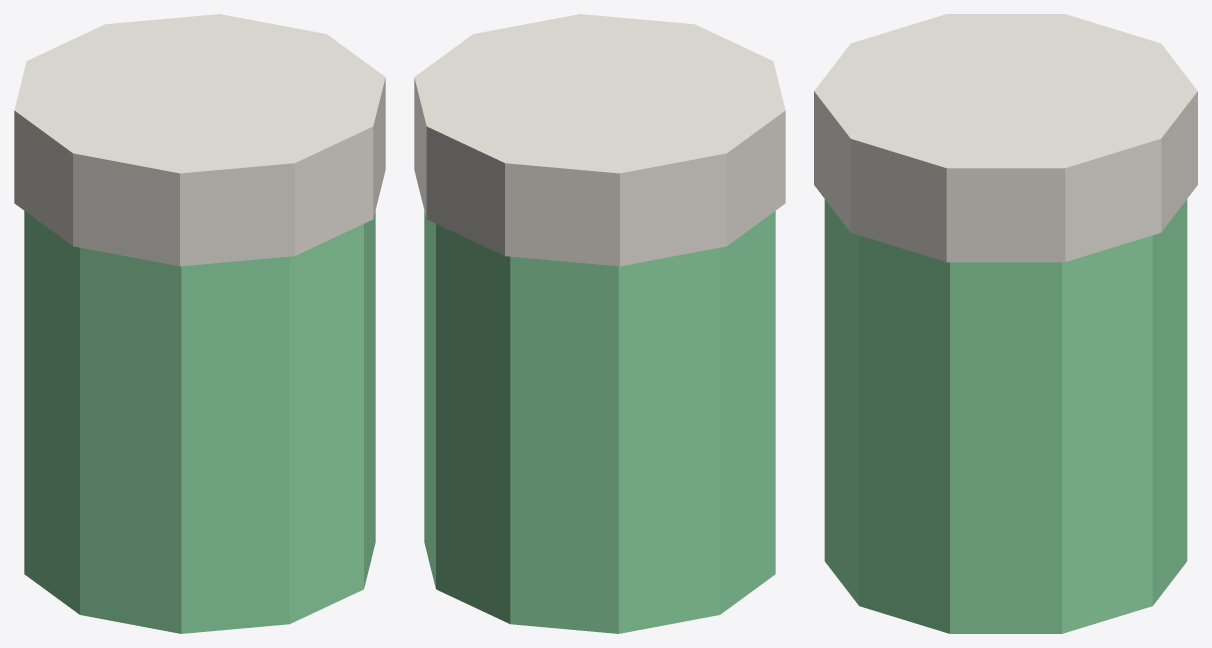
The model's file is sample_jar.glb.
3 views of the same model, side by side, from view 1: azimuth 30°, elevation 25°; view 2: azimuth 150°, elevation 25°; view 3: azimuth 270°, elevation 25° (orthographic).
Parts seen in each view (by area): view 1: jar_jar_glass, lid_jug_cap; view 2: jar_jar_glass, lid_jug_cap; view 3: jar_jar_glass, lid_jug_cap.
Part boxes in pixels (box(x1,y1,x2,y2)): jar_jar_glass: box(24, 211, 375, 633); lid_jug_cap: box(14, 14, 385, 266); jar_jar_glass: box(424, 211, 775, 633); lid_jug_cap: box(414, 14, 785, 266); jar_jar_glass: box(824, 199, 1187, 633); lid_jug_cap: box(814, 14, 1197, 262).
Size of the model in its own units: 0.0704 by 0.1 by 0.074.
